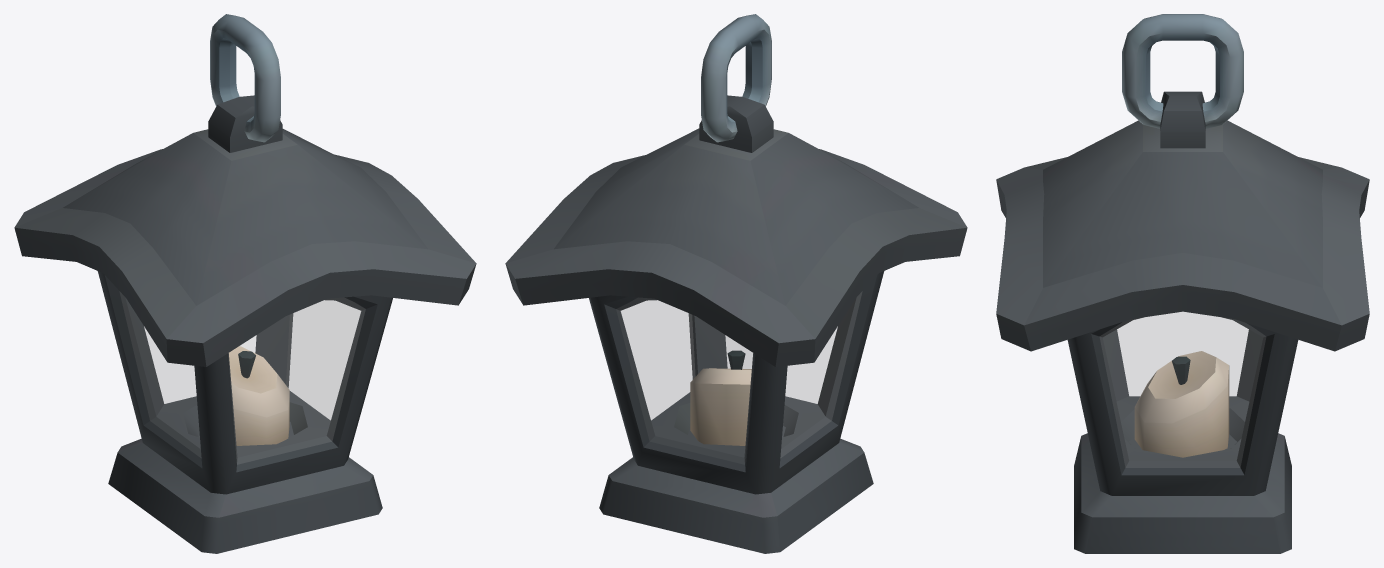
Rendered from lantern.glb.
3 views of the same model, side by side, from view 1: azimuth 30°, elevation 25°; view 2: azimuth 150°, elevation 25°; view 3: azimuth 270°, elevation 25° (orthographic). The views are drawn at different scales.
Visible parts, largest first — view 1: lantern, lantern_handle; view 2: lantern, lantern_handle; view 3: lantern, lantern_handle.
Part boxes in pixels (x1,y1,x2,y2): lantern: [14, 95, 476, 553]; lantern_handle: [210, 14, 280, 142]; lantern: [505, 95, 967, 553]; lantern_handle: [701, 14, 771, 142]; lantern: [996, 91, 1369, 553]; lantern_handle: [1122, 14, 1243, 128].
Bounding box in the file's own units: 0.7528 × 1.11 × 0.7528.
2 materials, 1 textured.
